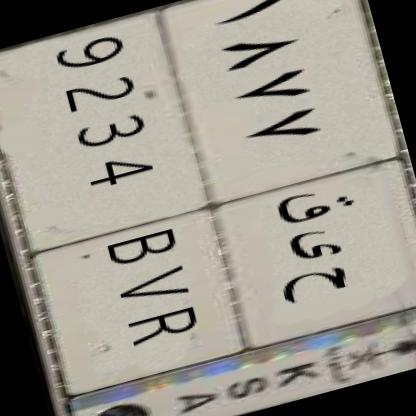english: (0, 3, 272, 402)
